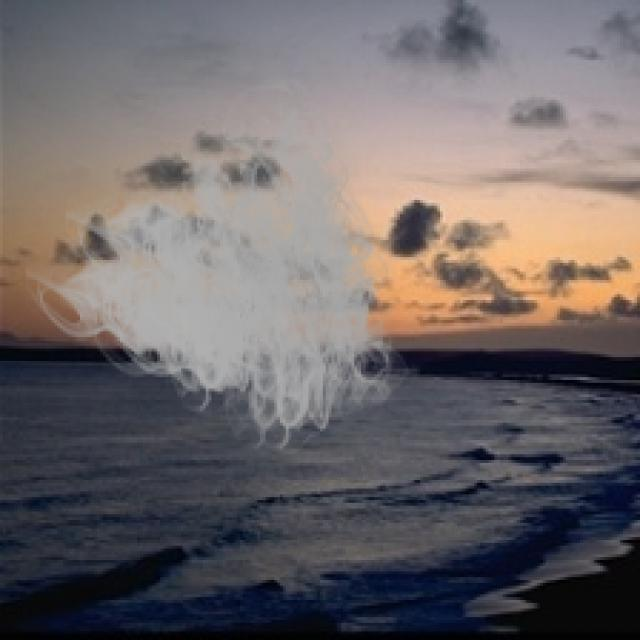smoke: (26, 68, 417, 466)
